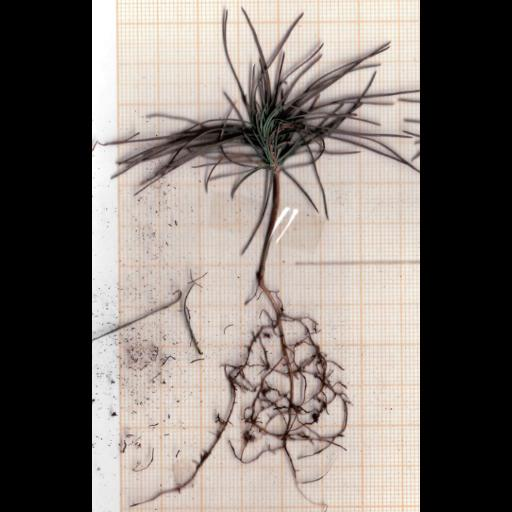flowerCedr: (107, 9, 419, 201)
rootCedr: (209, 285, 349, 481)
stemCedr: (257, 169, 281, 287)
